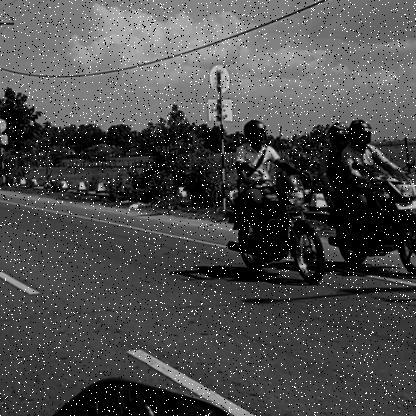motorcycle: (217, 173, 329, 288), (325, 170, 416, 279)
